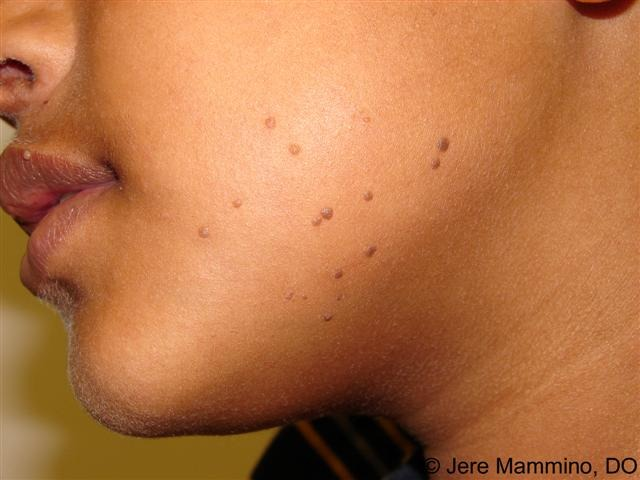Warts: (181, 95, 458, 350)
